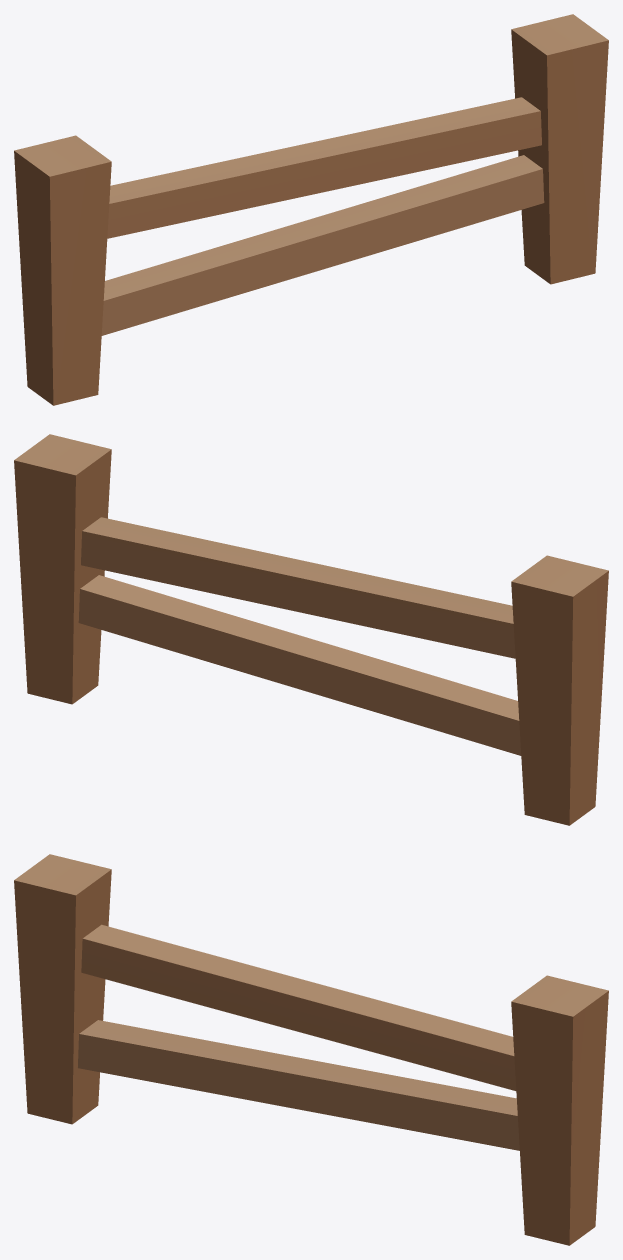
The model's file is FBX_Fence_A.fbx.
The picture shows the model from 3 angles, top to bottom: view 1: azimuth 30°, elevation 25°; view 2: azimuth 150°, elevation 25°; view 3: azimuth 330°, elevation 25°; orthographic projection.
Visible parts, largest first — view 1: Fence_A; view 2: Fence_A; view 3: Fence_A.
Part boxes in pixels (box(x1,y1,x2,y2)): Fence_A: box(14, 14, 608, 405); Fence_A: box(14, 434, 608, 825); Fence_A: box(14, 854, 608, 1245).
Size of the model in its own units: 200 by 22.17 by 80.22.
